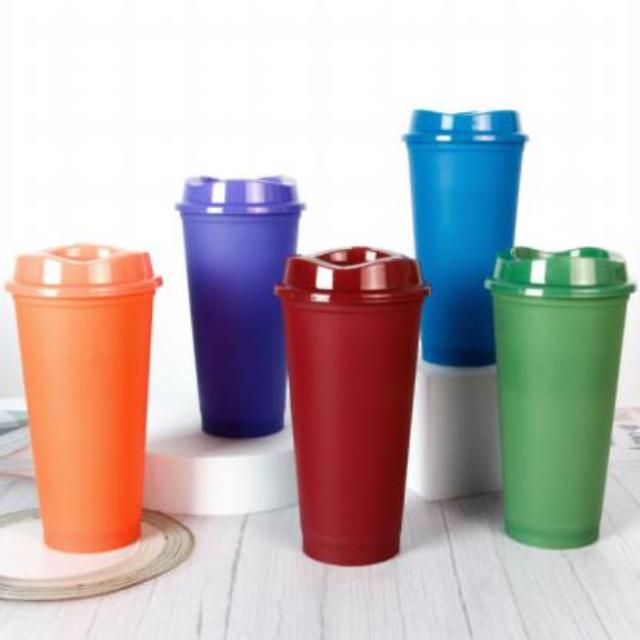plastic_cup: (274, 246, 434, 566), (7, 241, 162, 553), (486, 246, 634, 548), (175, 170, 308, 440), (413, 106, 531, 370)
